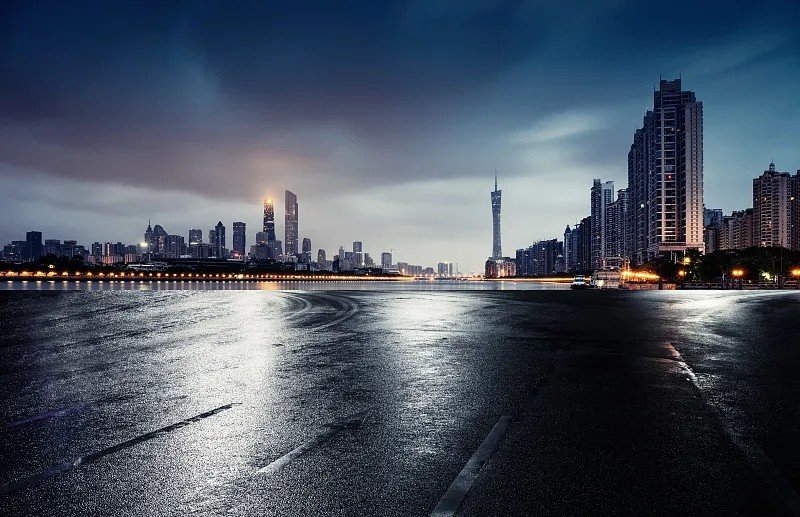Canton: (490, 168, 502, 257)
